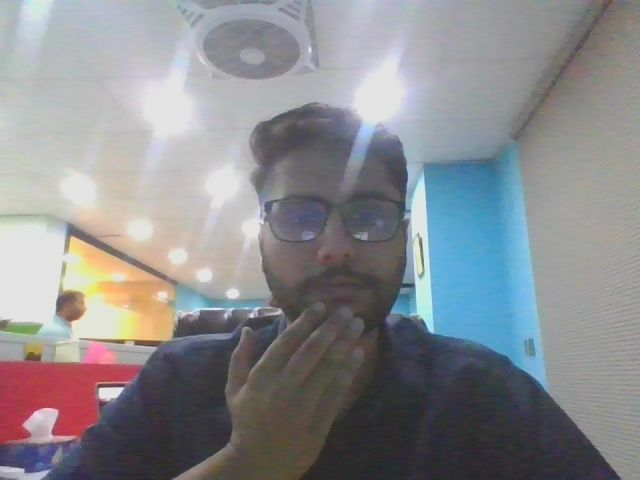thanks: (210, 297, 400, 472)
